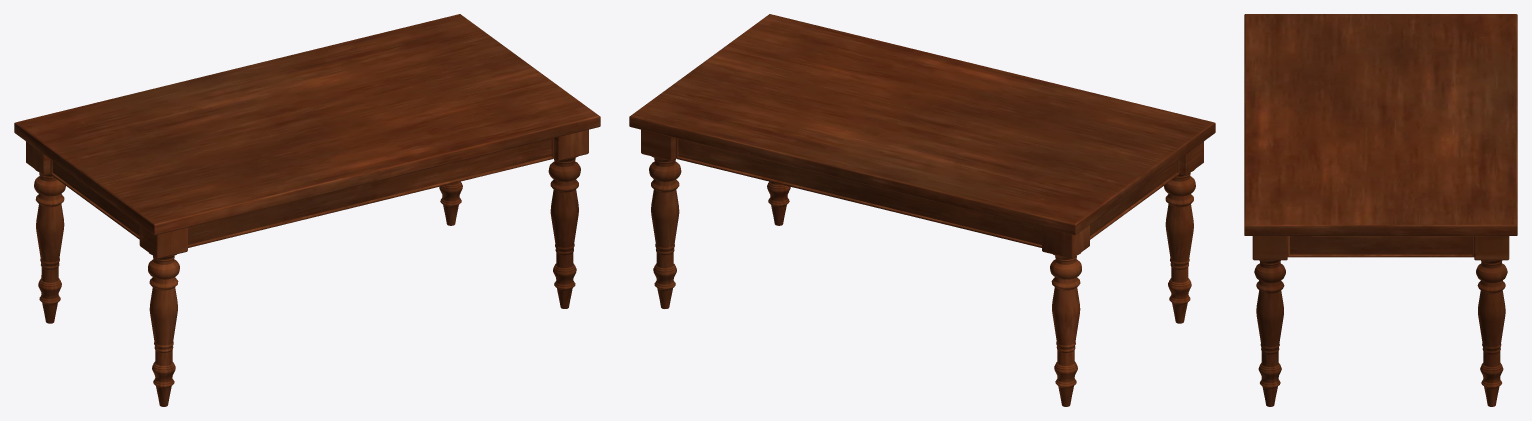
The picture shows the model from 3 angles, left to right: view 1: azimuth 30°, elevation 25°; view 2: azimuth 150°, elevation 25°; view 3: azimuth 270°, elevation 25°; orthographic projection. The views are drawn at different scales.
Visible parts, largest first — view 1: Dining Table 01; view 2: Dining Table 01; view 3: Dining Table 01.
Part boxes in pixels (x1,y1,x2,y2): Dining Table 01: (14, 14, 600, 406); Dining Table 01: (629, 14, 1215, 406); Dining Table 01: (1244, 14, 1517, 406).
Bounding box in the file's own units: 1.79 × 0.7499 × 0.9742.
Materials: 1 (1 with a texture image).
